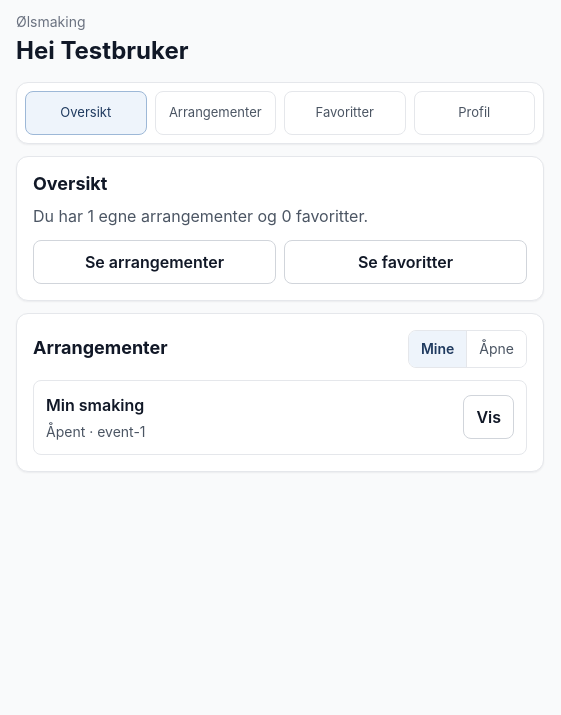
Test case: App core flows › loads workspace when event favorites endpoint returns 500
The width and height of the screenshot is (561, 715).
Click the button "Arrangementer". click: (215, 113)
box: [154,91,276,135]
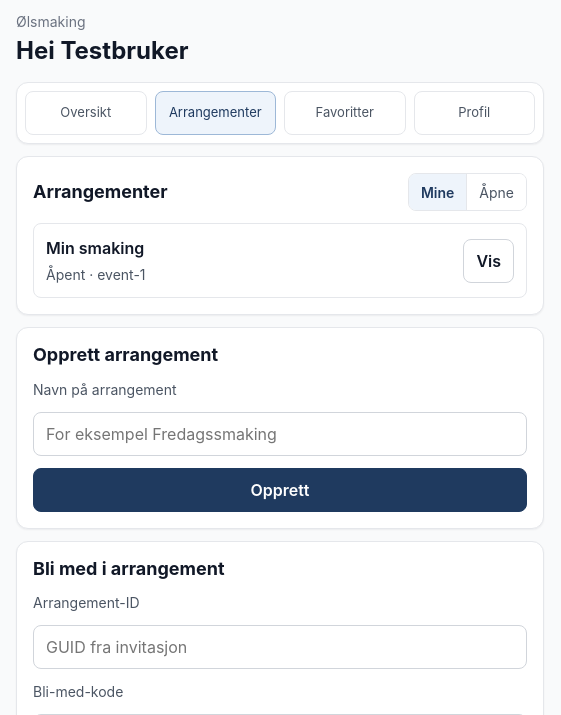
Click the button "Vis". click: (489, 260)
box: [463,238,514,282]
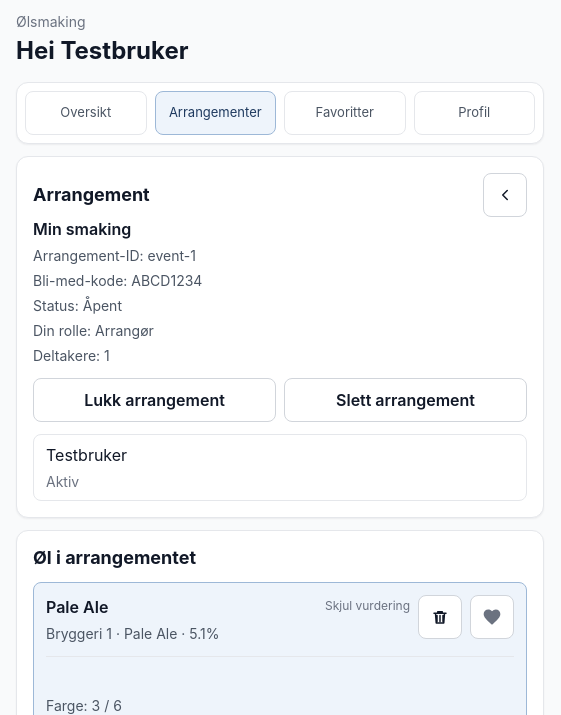
expect the text "Bli-med-kode: ABCD1234" is shown: met, box [33,272,202,289]
